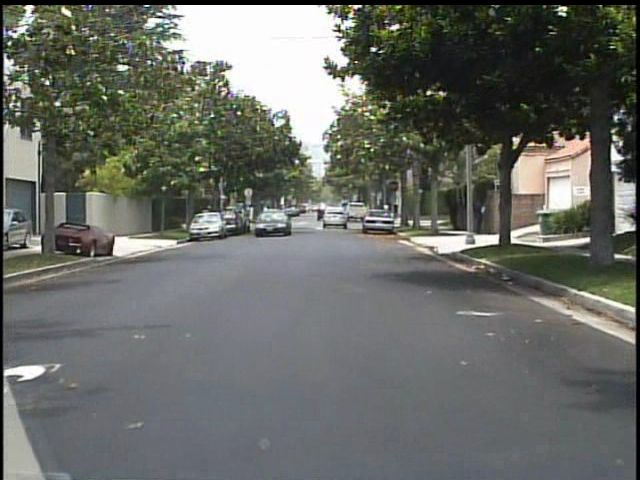person: (473, 193, 487, 237), (198, 204, 213, 232)
